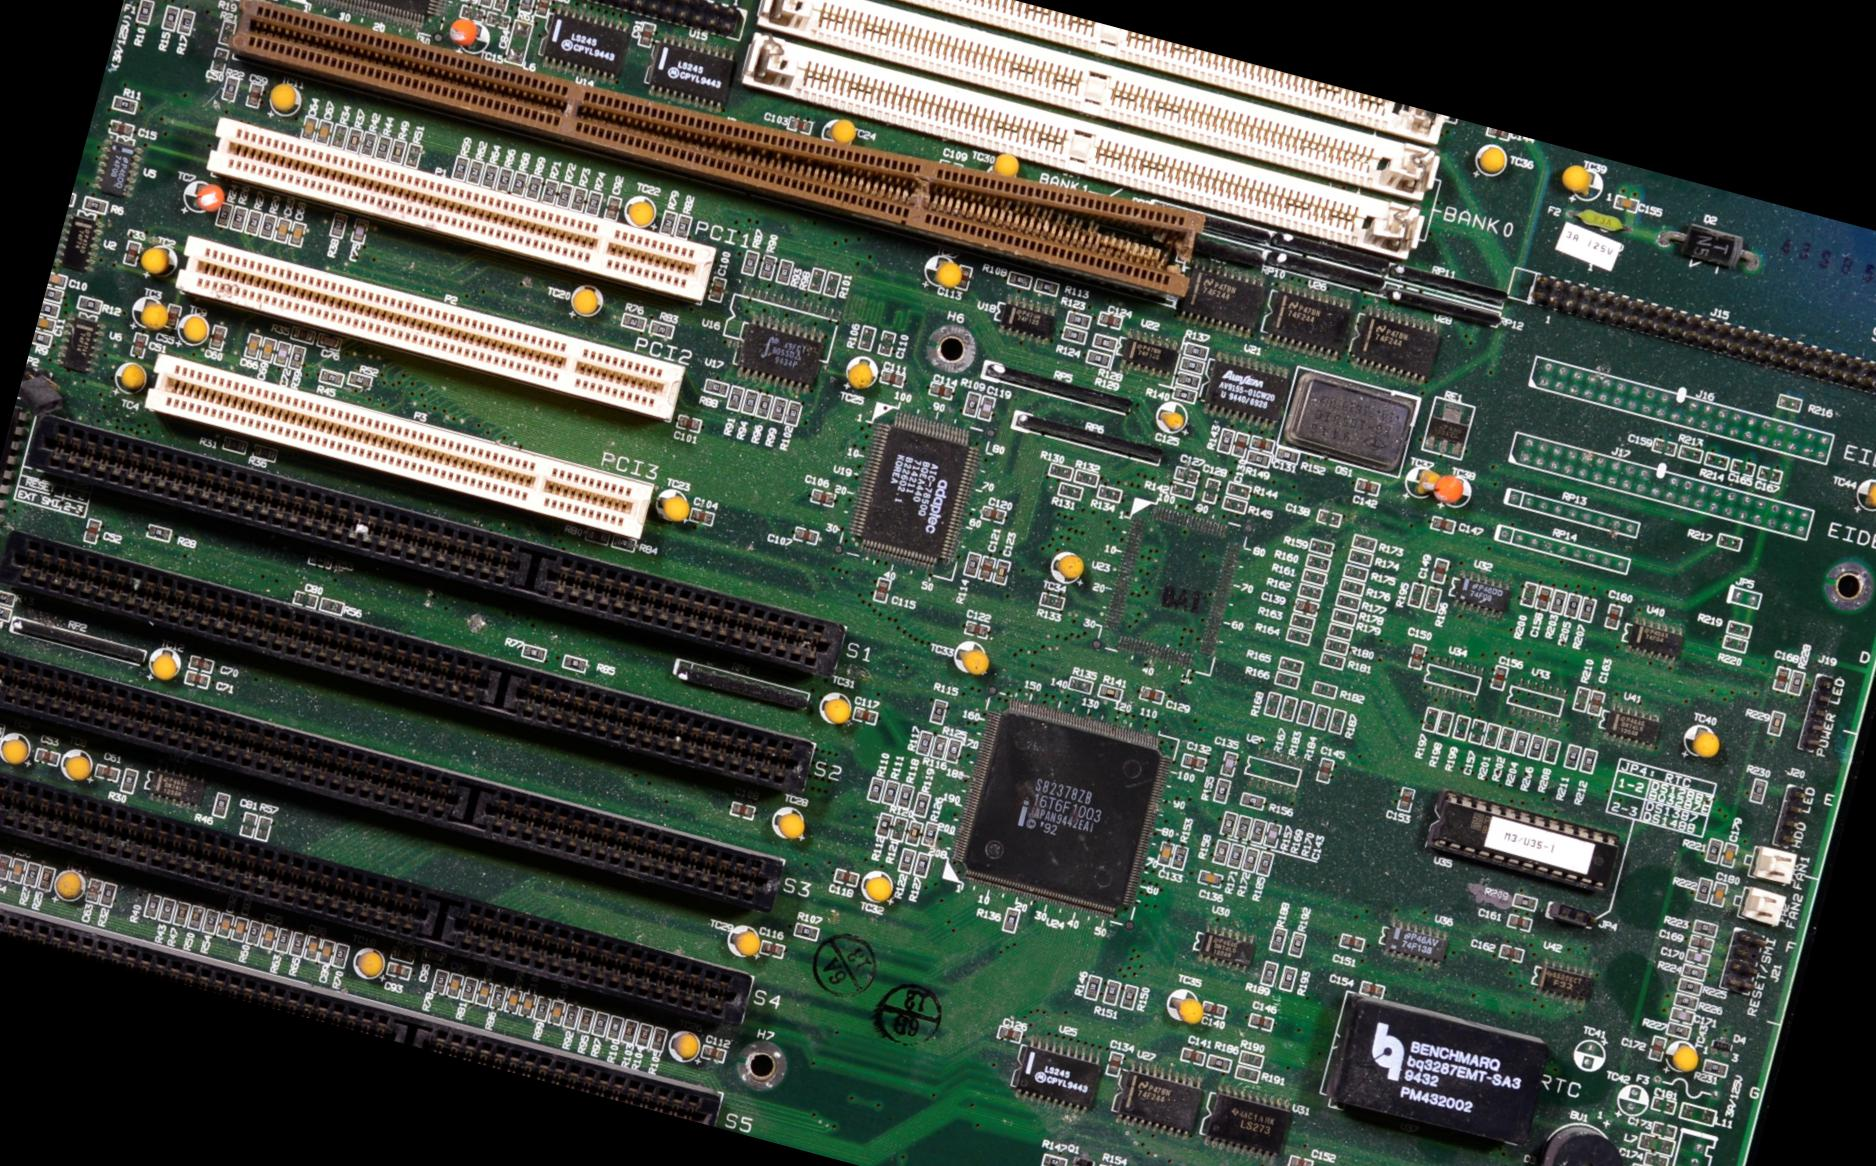Capacitor Jumper: (1495, 940, 1527, 960), (1769, 665, 1791, 693), (1601, 600, 1622, 630), (1198, 999, 1226, 1020), (236, 809, 256, 837), (93, 763, 120, 783), (32, 747, 59, 767), (634, 20, 654, 47), (243, 81, 263, 107), (1532, 584, 1552, 611), (121, 239, 141, 266), (808, 488, 837, 506), (700, 1042, 725, 1063), (1505, 912, 1532, 931), (388, 944, 415, 963), (486, 11, 513, 30), (211, 47, 230, 74), (1430, 556, 1449, 583), (207, 324, 226, 351), (129, 332, 148, 359), (1244, 1013, 1274, 1029), (962, 621, 990, 638), (1649, 1122, 1677, 1139), (313, 117, 330, 145), (1248, 434, 1276, 451), (1155, 840, 1174, 865), (443, 973, 462, 998), (602, 195, 620, 220), (273, 218, 291, 243), (1201, 477, 1219, 502), (1358, 979, 1385, 997), (457, 4, 483, 21), (1730, 458, 1756, 476), (1427, 514, 1454, 532), (1291, 598, 1317, 615), (1407, 643, 1425, 670), (243, 330, 261, 357), (833, 866, 857, 885), (1104, 1050, 1123, 1075), (1611, 196, 1640, 212), (787, 114, 811, 133), (110, 118, 134, 137), (976, 556, 995, 580), (1468, 719, 1487, 743), (1180, 751, 1206, 768), (729, 801, 755, 818), (316, 939, 333, 965), (231, 917, 248, 943), (877, 329, 894, 355), (1230, 431, 1248, 457), (1172, 466, 1198, 484), (979, 505, 1004, 523), (317, 333, 342, 351), (1489, 664, 1507, 689), (258, 337, 275, 363), (1668, 1007, 1695, 1024), (872, 576, 889, 600), (1719, 844, 1736, 868), (1397, 786, 1414, 810), (1219, 751, 1237, 775), (1709, 881, 1727, 905), (1684, 948, 1708, 966), (385, 962, 410, 979), (287, 222, 305, 246), (162, 304, 180, 328), (688, 506, 712, 524), (291, 590, 317, 606), (86, 876, 102, 901), (1755, 466, 1781, 482), (1098, 313, 1124, 329), (791, 527, 816, 543), (83, 519, 101, 541), (760, 939, 783, 956), (976, 396, 994, 419), (35, 316, 58, 333), (1317, 758, 1333, 782), (1688, 935, 1712, 951), (1262, 823, 1278, 848), (218, 912, 234, 936), (518, 995, 534, 1020), (1652, 439, 1676, 455), (928, 383, 952, 399), (1137, 686, 1163, 701), (850, 707, 876, 721), (188, 656, 214, 670), (185, 670, 207, 688), (259, 927, 277, 948), (1649, 1036, 1665, 1059), (547, 1002, 563, 1025), (301, 114, 317, 137), (677, 415, 700, 431), (273, 344, 289, 367), (1483, 125, 1507, 140), (1354, 480, 1378, 494), (880, 371, 904, 386), (1315, 509, 1339, 524), (1589, 690, 1603, 715), (1340, 935, 1362, 951), (1180, 1046, 1202, 1063), (1000, 1025, 1022, 1041), (474, 982, 490, 1003), (992, 560, 1009, 582), (504, 989, 518, 1012), (9, 860, 24, 883), (1650, 1099, 1675, 1112), (0, 852, 12, 879), (47, 271, 67, 287), (1198, 870, 1219, 885), (1640, 1154, 1668, 1165), (534, 0, 552, 16), (303, 939, 318, 958), (1286, 1155, 1313, 1165), (68, 192, 77, 207)
Connector: (0, 528, 815, 807), (23, 411, 847, 685), (0, 752, 759, 1038), (0, 643, 790, 912), (739, 24, 1430, 266), (753, 0, 1444, 207), (768, 0, 1452, 146), (172, 232, 689, 426), (145, 352, 655, 541), (207, 116, 717, 300), (1528, 270, 1875, 404), (478, 0, 748, 38)
IC: (940, 696, 1175, 930), (843, 408, 983, 578), (1198, 1079, 1295, 1165), (1011, 1033, 1107, 1118), (642, 34, 736, 116), (1261, 283, 1358, 357), (1201, 347, 1289, 427), (1116, 1059, 1206, 1138), (540, 4, 628, 79), (1176, 259, 1266, 332), (1352, 306, 1442, 379), (736, 322, 825, 390), (1203, 355, 1288, 424), (1380, 917, 1452, 970), (995, 297, 1058, 344), (1419, 658, 1485, 703), (1453, 568, 1512, 617), (1121, 330, 1176, 380), (1602, 703, 1662, 747), (55, 317, 103, 372), (1628, 619, 1687, 664), (1535, 960, 1595, 1002), (1508, 678, 1564, 721), (59, 212, 101, 267)
Resistor Jumper: (219, 434, 251, 455), (218, 16, 239, 47), (1775, 392, 1803, 415), (175, 8, 196, 38), (1746, 779, 1769, 806), (251, 443, 281, 463), (161, 3, 181, 32), (1223, 480, 1253, 500), (1031, 277, 1060, 297), (1056, 481, 1084, 501), (142, 524, 175, 541), (1308, 678, 1338, 697), (1080, 974, 1103, 998), (794, 920, 819, 942), (400, 142, 422, 168), (583, 188, 603, 215), (357, 130, 377, 157), (820, 271, 841, 298), (81, 195, 107, 215), (318, 596, 346, 615), (1037, 591, 1065, 610), (1324, 709, 1346, 733), (901, 819, 923, 844), (211, 791, 231, 817), (740, 249, 760, 274), (1676, 977, 1703, 995), (1277, 963, 1296, 990), (23, 861, 42, 888), (329, 121, 348, 148), (465, 159, 483, 185), (328, 214, 346, 240), (1578, 595, 1597, 622), (1548, 587, 1567, 614), (1571, 685, 1590, 712), (518, 643, 547, 661), (222, 73, 239, 101), (287, 325, 316, 343), (1253, 853, 1274, 876), (1703, 1056, 1727, 1076), (560, 1003, 580, 1028), (634, 1025, 654, 1049), (450, 153, 470, 177), (753, 394, 773, 418), (1239, 846, 1258, 872), (1205, 1053, 1230, 1072), (1234, 1063, 1260, 1081), (540, 176, 559, 201), (494, 168, 513, 193), (509, 172, 528, 197), (620, 312, 646, 330), (1543, 736, 1562, 762), (458, 975, 475, 1002), (332, 942, 349, 969), (1167, 480, 1194, 497), (1766, 708, 1783, 735), (1284, 626, 1311, 643), (1266, 927, 1286, 950), (1692, 919, 1716, 938), (1231, 815, 1250, 840), (1509, 895, 1538, 911), (1258, 960, 1277, 985), (254, 814, 273, 838), (573, 1007, 592, 1032), (604, 1016, 623, 1040), (185, 905, 204, 930), (1704, 450, 1728, 469), (567, 187, 585, 211), (807, 269, 826, 293), (1219, 496, 1248, 512), (1519, 583, 1538, 607), (346, 371, 371, 390), (1422, 704, 1438, 732), (1261, 690, 1278, 716), (1210, 838, 1227, 864), (649, 1026, 666, 1052), (111, 95, 137, 113), (1274, 446, 1300, 463), (1217, 426, 1234, 451), (1245, 449, 1270, 466), (962, 391, 979, 416), (77, 296, 102, 313), (1277, 656, 1303, 673), (1497, 725, 1515, 751), (1084, 351, 1111, 367), (857, 324, 873, 351), (1724, 621, 1751, 637), (1094, 485, 1121, 501), (1311, 705, 1329, 728), (1168, 846, 1187, 869), (1100, 981, 1119, 1003), (200, 909, 219, 932), (98, 883, 117, 905), (782, 402, 800, 424), (1405, 582, 1423, 604), (1526, 735, 1544, 758), (1578, 748, 1597, 771), (1692, 876, 1709, 900), (1219, 810, 1237, 834), (1667, 1022, 1691, 1040), (1238, 1049, 1262, 1067), (121, 768, 138, 793), (487, 985, 505, 1009), (1007, 270, 1031, 287), (479, 163, 497, 187), (244, 210, 262, 234), (214, 201, 231, 226), (1562, 594, 1579, 618), (1047, 461, 1072, 478), (1422, 586, 1440, 610), (320, 368, 344, 386), (1512, 731, 1530, 755), (1068, 674, 1093, 690), (877, 810, 893, 836), (145, 892, 161, 917), (778, 258, 794, 283), (646, 320, 671, 336), (1342, 563, 1367, 579), (1119, 986, 1139, 1006), (1704, 840, 1722, 862), (1241, 793, 1264, 810), (1226, 845, 1244, 868), (533, 997, 551, 1020), (171, 904, 188, 927), (1321, 652, 1344, 669), (1436, 711, 1453, 733), (1003, 905, 1018, 932), (661, 210, 677, 234), (675, 215, 692, 239), (1092, 334, 1116, 351), (759, 254, 775, 278), (1351, 533, 1375, 549), (1074, 469, 1098, 485), (1214, 778, 1229, 803), (1715, 535, 1740, 549), (619, 1018, 637, 1040), (287, 348, 305, 369), (1180, 356, 1203, 372), (555, 184, 571, 207), (373, 137, 389, 160), (230, 208, 246, 231), (1308, 537, 1331, 553), (1301, 567, 1324, 583), (1338, 595, 1360, 611), (1328, 623, 1351, 639), (963, 552, 979, 575), (1484, 724, 1500, 747), (1564, 746, 1581, 768), (247, 920, 262, 944), (290, 934, 305, 958), (1184, 343, 1209, 357), (345, 129, 360, 153), (1281, 696, 1297, 717), (1296, 701, 1312, 723), (916, 731, 932, 752), (944, 740, 960, 762), (881, 780, 897, 802), (0, 586, 16, 607), (430, 970, 446, 991), (136, 0, 152, 21), (1724, 634, 1746, 650), (741, 390, 757, 411), (726, 386, 743, 407), (769, 399, 786, 420), (1039, 1153, 1068, 1165), (1097, 685, 1120, 700), (1675, 991, 1697, 1006), (591, 1012, 606, 1034), (38, 865, 52, 888), (160, 899, 175, 922), (1679, 446, 1701, 461), (1066, 310, 1089, 325), (388, 138, 403, 161), (1789, 672, 1803, 694), (1288, 614, 1311, 629), (1274, 672, 1297, 686), (896, 784, 912, 805), (1289, 931, 1303, 955), (1346, 551, 1372, 563), (43, 287, 63, 304), (1683, 963, 1704, 978), (867, 778, 882, 799), (900, 849, 914, 870), (913, 854, 928, 876), (39, 302, 60, 317), (1172, 388, 1195, 402), (1340, 579, 1363, 592), (1331, 610, 1354, 623), (931, 700, 947, 719), (525, 177, 541, 196), (914, 793, 929, 813), (1176, 371, 1197, 386), (563, 654, 584, 668), (923, 823, 936, 845), (261, 215, 274, 236), (1305, 553, 1327, 567), (1250, 822, 1264, 842), (274, 931, 287, 951), (493, 0, 513, 13), (1325, 638, 1346, 652), (1064, 328, 1082, 341), (1453, 719, 1466, 737), (702, 383, 725, 394), (1299, 583, 1319, 595), (931, 739, 944, 756), (892, 819, 905, 837), (516, 0, 534, 11), (0, 602, 9, 621), (477, 0, 496, 9)
